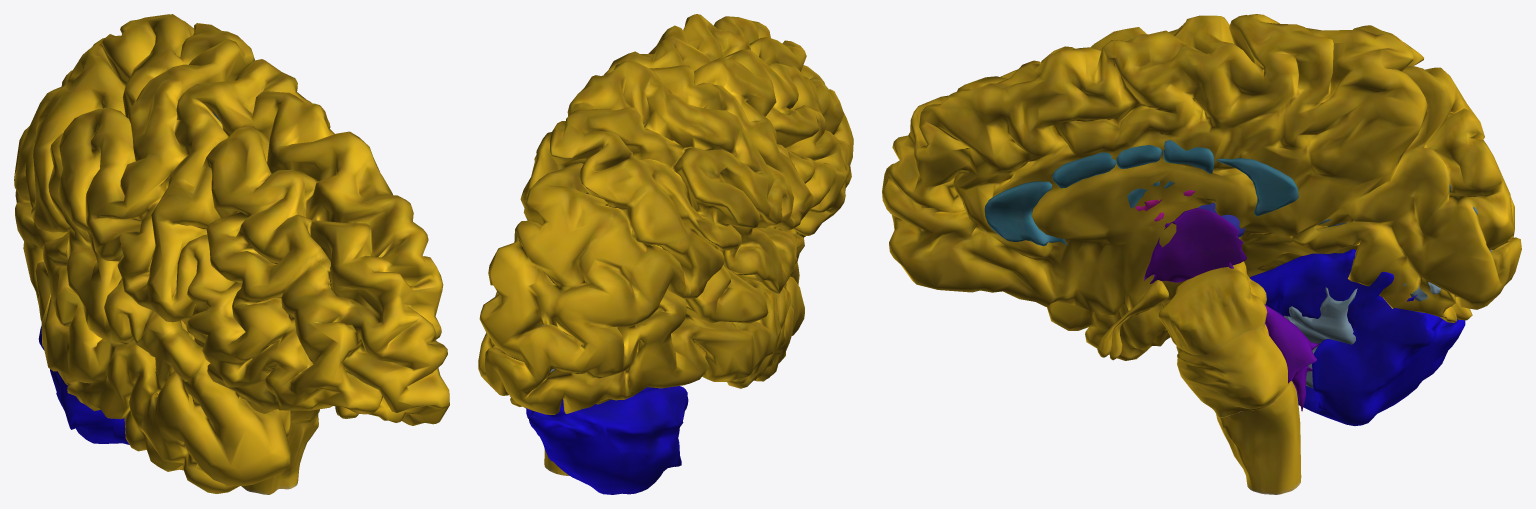
The model's file is brain-half.glb.
3 renders of one model, left to right at view 1: azimuth 30°, elevation 25°; view 2: azimuth 150°, elevation 25°; view 3: azimuth 270°, elevation 25°, orthographic. The views are drawn at different scales.
Visible parts, largest first — view 1: Right_cerebral_cortex_and_pia_mater, Right_cerebellum_and_pia_mater, Medulla; view 2: Right_cerebral_cortex_and_pia_mater, Right_cerebellum_and_pia_mater; view 3: Right_cerebral_cortex_and_pia_mater, Right_cerebellum_and_pia_mater, Midbrain, Pons, Medulla, Third_ventricle, Anterior_cingulate_cortex_ACC, Fourth_ventricle, Right_cerebellar_white_matter, Posterior_cingulate_cortex_PCC, Pituitary_gland, Mid_anterior_cingulate_cortex_mACC (+2 smaller).
Boxes of the visible parts, <box> form: Right_cerebral_cortex_and_pia_mater: <box>14,14,449,493</box>; Right_cerebellum_and_pia_mater: <box>38,326,129,444</box>; Medulla: <box>242,414,318,494</box>; Right_cerebral_cortex_and_pia_mater: <box>478,14,853,414</box>; Right_cerebellum_and_pia_mater: <box>525,386,688,494</box>; Right_cerebral_cortex_and_pia_mater: <box>882,14,1521,360</box>; Right_cerebellum_and_pia_mater: <box>1250,249,1465,425</box>; Midbrain: <box>1158,261,1267,355</box>; Pons: <box>1176,324,1291,416</box>; Medulla: <box>1216,381,1301,494</box>; Third_ventricle: <box>1144,208,1246,283</box>; Anterior_cingulate_cortex_ACC: <box>984,181,1070,254</box>; Fourth_ventricle: <box>1264,304,1320,411</box>; Right_cerebellar_white_matter: <box>1284,287,1357,388</box>; Posterior_cingulate_cortex_PCC: <box>1217,158,1298,216</box>; Pituitary_gland: <box>1097,280,1168,360</box>; Mid_anterior_cingulate_cortex_mACC: <box>1052,152,1116,188</box>.
Bounding box in the file's own units: 0.0788 × 0.1297 × 0.1703.
Materials: 29 (29 with a texture image).
